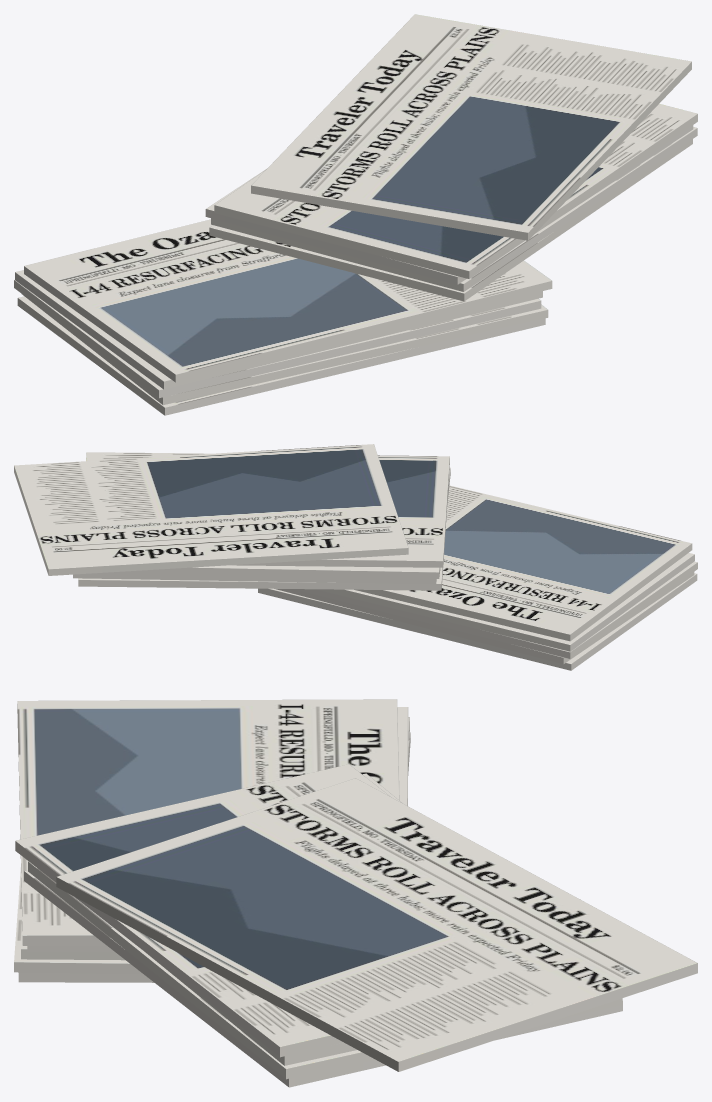
Rendered from hotel-newspaper-stack.glb.
The picture shows the model from 3 angles, top to bottom: view 1: azimuth 30°, elevation 25°; view 2: azimuth 150°, elevation 25°; view 3: azimuth 270°, elevation 25°; orthographic projection. The views are drawn at different scales.
Parts seen in each view (by area): view 1: newsprint; view 2: newsprint; view 3: newsprint.
Part boxes in pixels (x1=…): newsprint: x1=14, y1=14, x2=697, y2=415; newsprint: x1=14, y1=444, x2=697, y2=670; newsprint: x1=14, y1=699, x2=697, y2=1087.
Size of the model in its own units: 0.5369 by 0.0618 by 0.3691.
Materials: 1 (1 with a texture image).
